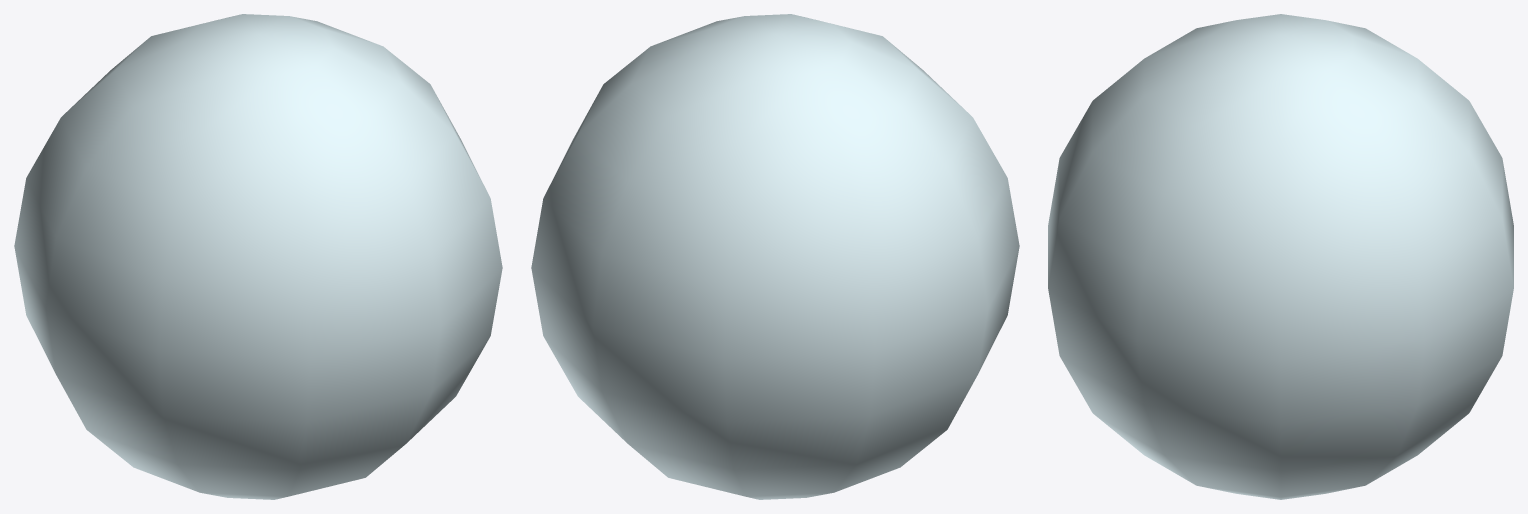
The model's file is cure_mesh.fbx.
3 renders of one model, left to right at view 1: azimuth 30°, elevation 25°; view 2: azimuth 150°, elevation 25°; view 3: azimuth 270°, elevation 25°, orthographic.
Parts seen in each view (by area): view 1: pSphere9; view 2: pSphere9; view 3: pSphere9.
Part boxes in pixels (x1=…): pSphere9: x1=14, y1=14, x2=502, y2=499; pSphere9: x1=531, y1=14, x2=1019, y2=499; pSphere9: x1=1048, y1=14, x2=1513, y2=499.
Size of the model in its own units: 7.04 by 7.04 by 6.69.
